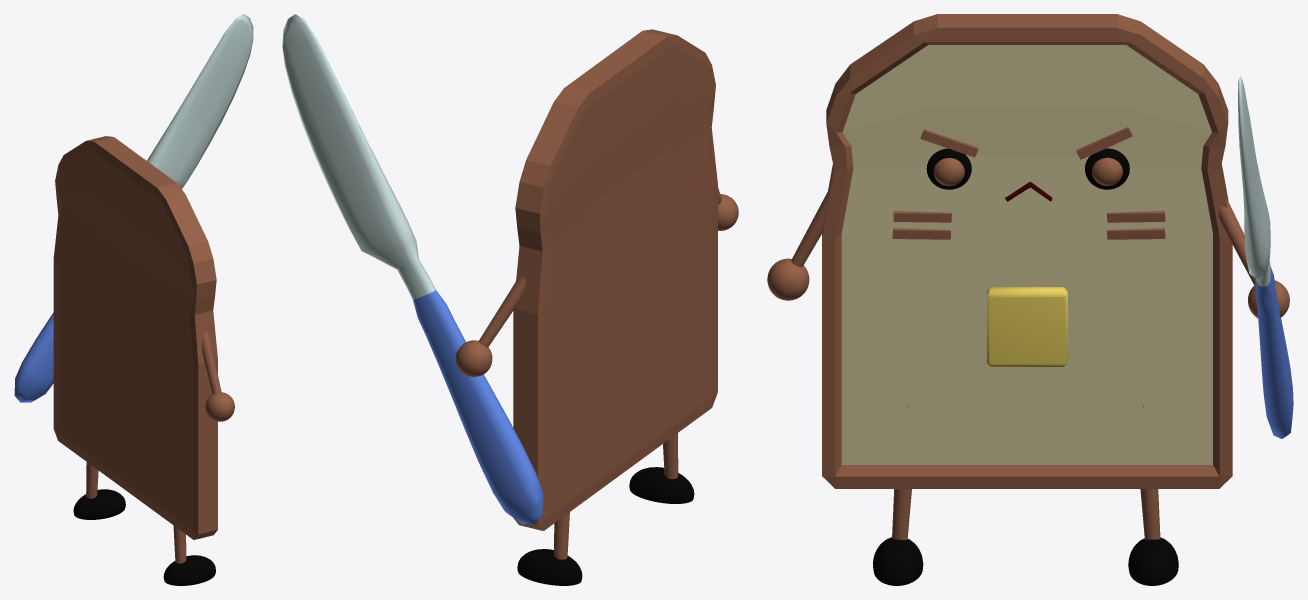
Rendered from TOASTIMPORT.fbx.
3 views of the same model, side by side, from view 1: azimuth 30°, elevation 25°; view 2: azimuth 150°, elevation 25°; view 3: azimuth 270°, elevation 25° (orthographic). The views are drawn at different scales.
Visible parts, largest first — view 1: Cube; view 2: Cube; view 3: Cube.
Boxes of the visible parts, bbox=[...] form: Cube: bbox=[14, 14, 253, 585]; Cube: bbox=[282, 14, 738, 585]; Cube: bbox=[767, 14, 1293, 585].
Size of the model in its own units: 179 by 330 by 256.
